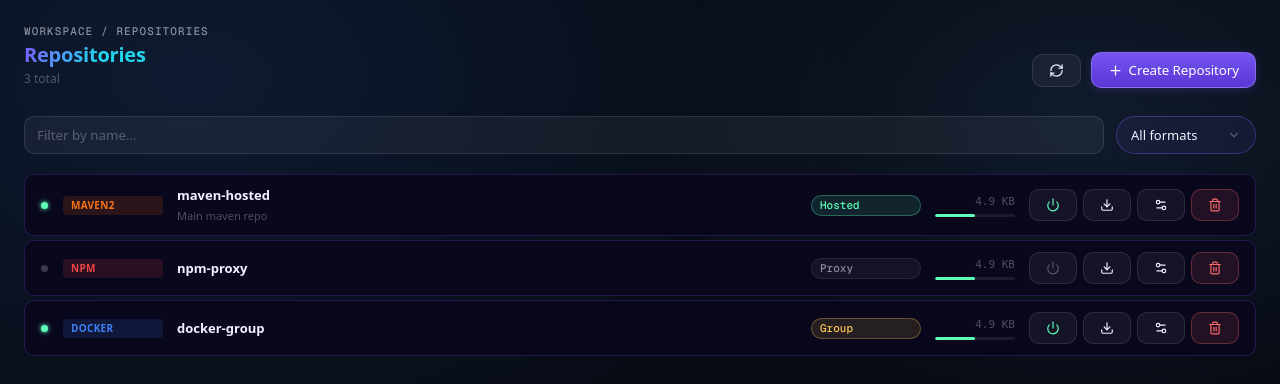
RepositoriesPage › filters by name
Expected: the text "maven-hosted" is shown, [177,186,270,204]
Type "npm" into the field with placeholder "Filter by name…" at (564, 135), box [24,116,1104,154]
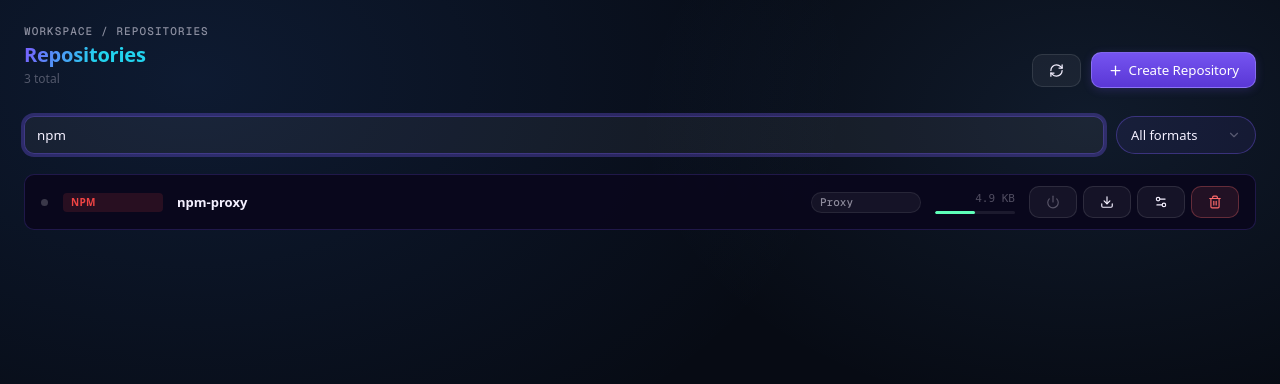
Expected: the text "npm-proxy" is shown, [177,193,247,211]
Result: the text "maven-hosted" is gone
